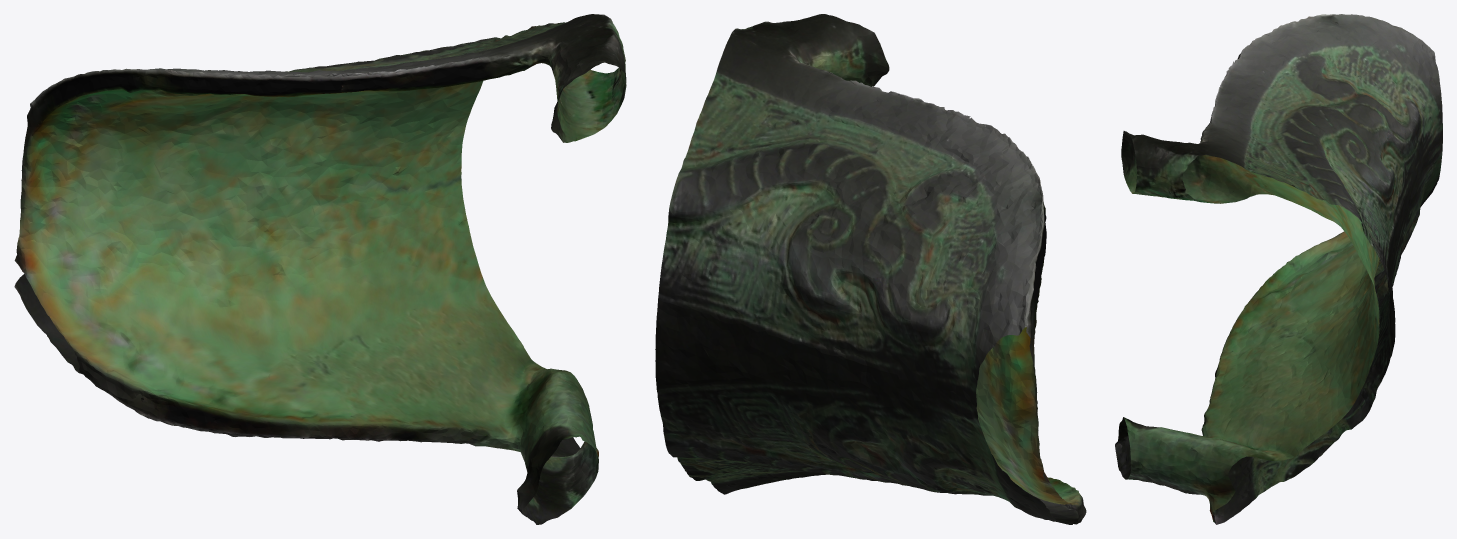
File: tile_3_2.obj
3 views of the same model, side by side, from view 1: azimuth 30°, elevation 25°; view 2: azimuth 150°, elevation 25°; view 3: azimuth 270°, elevation 25° (orthographic). The views are drawn at different scales.
Parts seen in each view (by area): view 1: texture_0; view 2: texture_0; view 3: texture_0.
Boxes of the visible parts, x1,y1,x2,y2 form: texture_0: [14, 14, 626, 524]; texture_0: [655, 14, 1086, 524]; texture_0: [1115, 14, 1442, 524].
Bounding box in the file's own units: 0.1581 × 0.1505 × 0.1206.
1 material, 1 textured.
